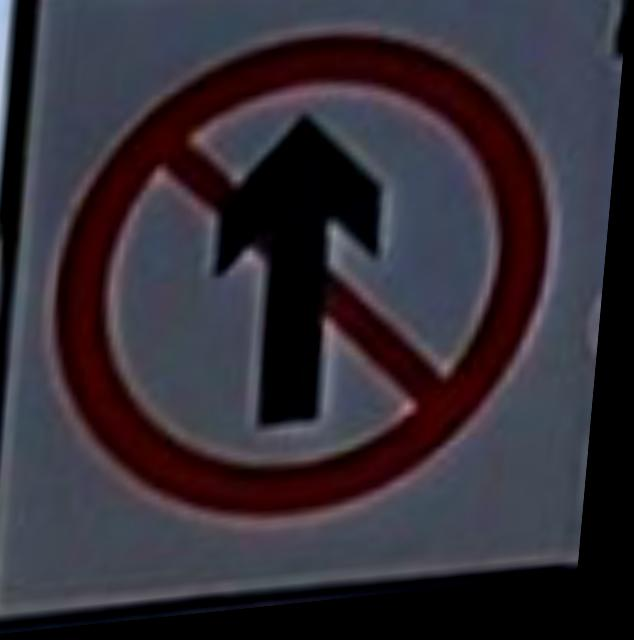not_go_straight: (28, 7, 584, 559)
